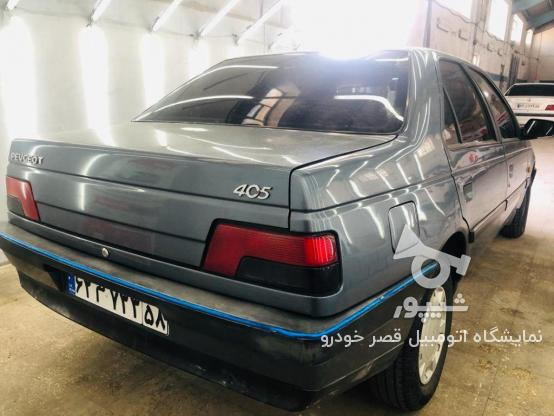car: (62, 270, 166, 333)
